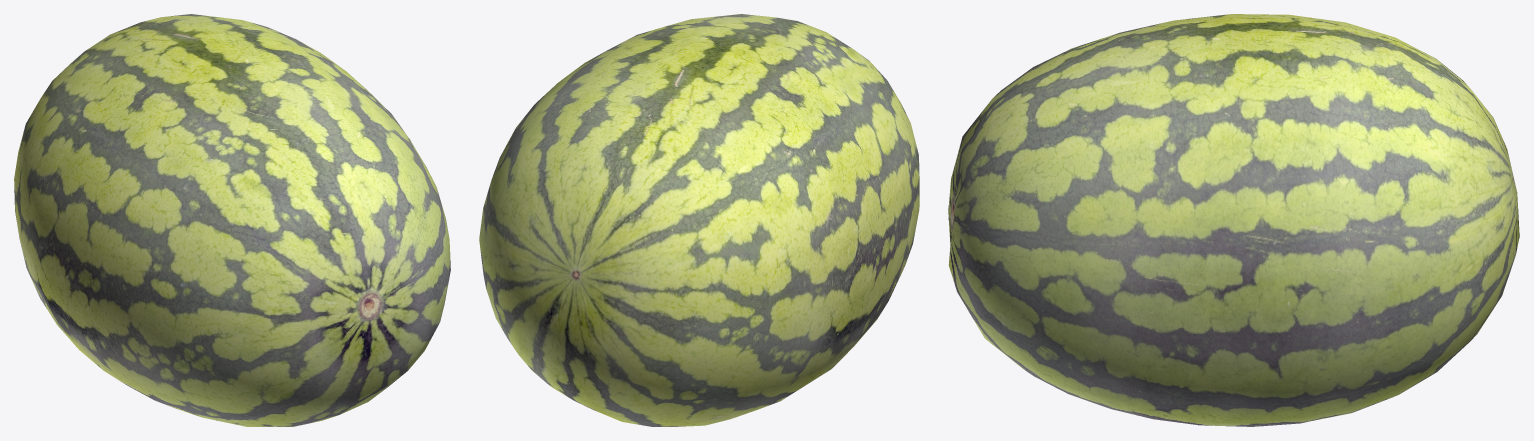
The picture shows the model from 3 angles, left to right: view 1: azimuth 30°, elevation 25°; view 2: azimuth 150°, elevation 25°; view 3: azimuth 270°, elevation 25°; orthographic projection. The views are drawn at different scales.
Parts seen in each view (by area): view 1: Watermelon; view 2: Watermelon; view 3: Watermelon.
Part boxes in pixels (left/top/right/bottom): Watermelon: left=14, top=14, right=450, bottom=426; Watermelon: left=479, top=14, right=919, bottom=426; Watermelon: left=948, top=14, right=1519, bottom=426.
Size of the model in its own units: 0.2084 by 0.2047 by 0.2822.
Materials: 1 (1 with a texture image).
